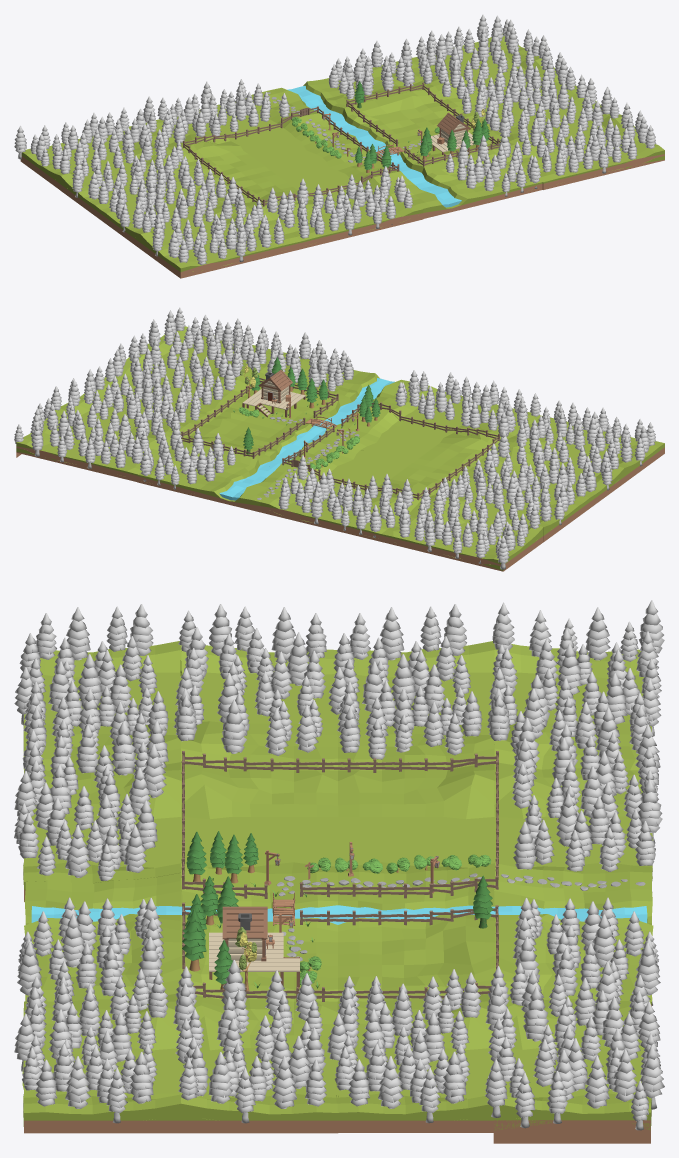
The model's file is map.fbx.
3 renders of one model, top to bottom at view 1: azimuth 30°, elevation 25°; view 2: azimuth 150°, elevation 25°; view 3: azimuth 270°, elevation 25°, orthographic. The views are drawn at different scales.
Visible parts, largest first — view 1: Ground.Cover.001, Ground.Cover.014, Ground.Cover.004, Ground.003, Ground.Cover.016, Ground.Cover.002, Ground.Cover.013, Ground.Cover.009, Ground.001, Ground.Cover.008, Ground.Cover.012, Ground.Cover.005 (+20 smaller); view 2: Ground.Cover.004, Ground.Cover.001, Ground.002, Ground.Cover.002, Ground.Cover.014, Ground.Cover.012, Ground.Cover.009, Ground.Cover.008, Ground.Cover.016, Ground.Cover.005, Ground.Cover.013, Ground.004 (+22 smaller); view 3: Ground.Cover.004, Ground.Cover.001, Ground.Cover.014, Ground.003, Ground.002, Ground.Cover.002, Ground.Cover.005, Ground.Cover.016, Ground.Cover.008, Ground.Cover.009, Ground.Cover.012, Ground.Cover.013 (+26 smaller).
Part boxes in pixels (x1=…): Ground.Cover.001: x1=14, y1=107, x2=169, y2=176; Ground.Cover.014: x1=267, y1=166, x2=412, y2=238; Ground.Cover.004: x1=401, y1=14, x2=548, y2=84; Ground.003: x1=182, y1=116, x2=342, y2=181; Ground.Cover.016: x1=522, y1=103, x2=664, y2=175; Ground.Cover.002: x1=143, y1=79, x2=290, y2=143; Ground.Cover.013: x1=152, y1=195, x2=284, y2=271; Ground.Cover.009: x1=109, y1=169, x2=244, y2=232; Ground.001: x1=303, y1=90, x2=448, y2=150; Ground.Cover.008: x1=442, y1=44, x2=575, y2=117; Ground.Cover.012: x1=485, y1=74, x2=619, y2=141; Ground.Cover.005: x1=67, y1=136, x2=204, y2=204; Ground.Cover.004: x1=14, y1=386, x2=165, y2=468; Ground.Cover.001: x1=398, y1=482, x2=540, y2=570; Ground.002: x1=340, y1=409, x2=499, y2=474; Ground.Cover.002: x1=274, y1=455, x2=413, y2=537; Ground.Cover.014: x1=395, y1=370, x2=540, y2=436; Ground.Cover.012: x1=105, y1=333, x2=241, y2=404; Ground.Cover.009: x1=484, y1=423, x2=619, y2=496; Ground.Cover.008: x1=68, y1=366, x2=201, y2=430; Ground.Cover.016: x1=148, y1=307, x2=281, y2=372; Ground.Cover.005: x1=442, y1=459, x2=575, y2=529; Ground.Cover.013: x1=523, y1=400, x2=656, y2=466; Ground.004: x1=137, y1=441, x2=297, y2=512; Ground.Cover.004: x1=485, y1=961, x2=664, y2=1143; Ground.Cover.001: x1=486, y1=600, x2=664, y2=757; Ground.Cover.014: x1=14, y1=720, x2=168, y2=880; Ground.003: x1=337, y1=764, x2=494, y2=883; Ground.002: x1=181, y1=762, x2=339, y2=882; Ground.Cover.002: x1=511, y1=717, x2=662, y2=878; Ground.Cover.005: x1=328, y1=604, x2=482, y2=759; Ground.Cover.016: x1=14, y1=969, x2=168, y2=1126; Ground.Cover.008: x1=327, y1=969, x2=481, y2=1123; Ground.Cover.009: x1=173, y1=604, x2=326, y2=756; Ground.Cover.012: x1=173, y1=959, x2=326, y2=1123; Ground.Cover.013: x1=14, y1=604, x2=168, y2=768.
Size of the model in its own units: 14930 by 1440 by 8695.
Materials: 140 (60 with a texture image).
